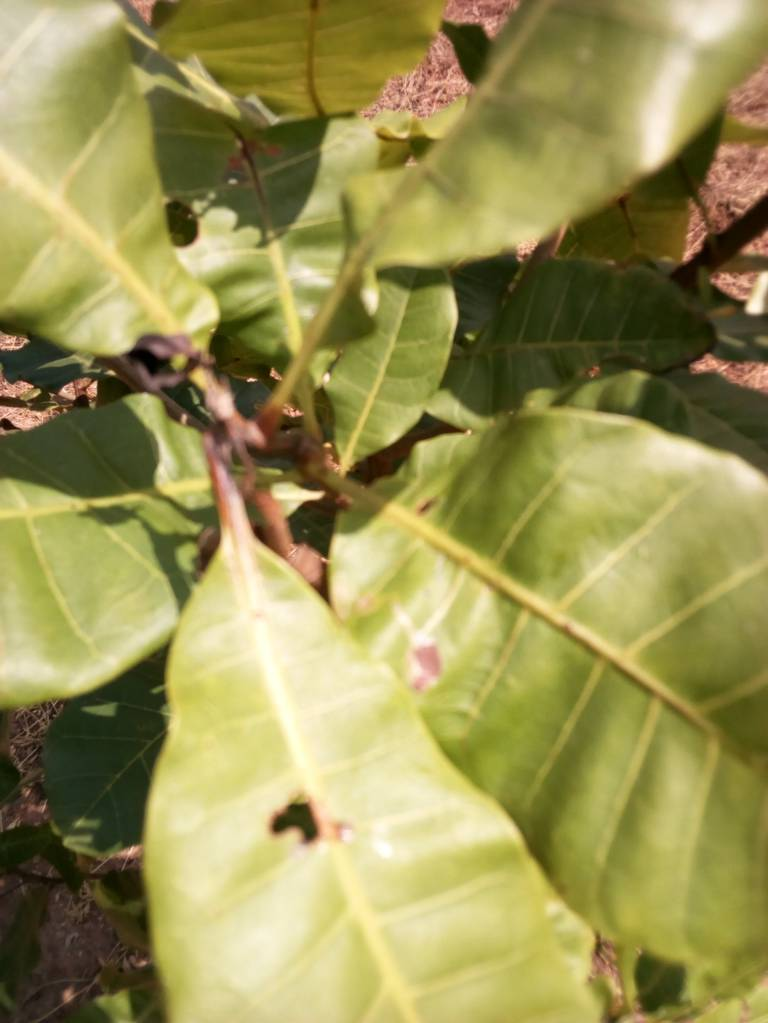Dessèchement des bourgeons: (144, 342, 333, 511)
